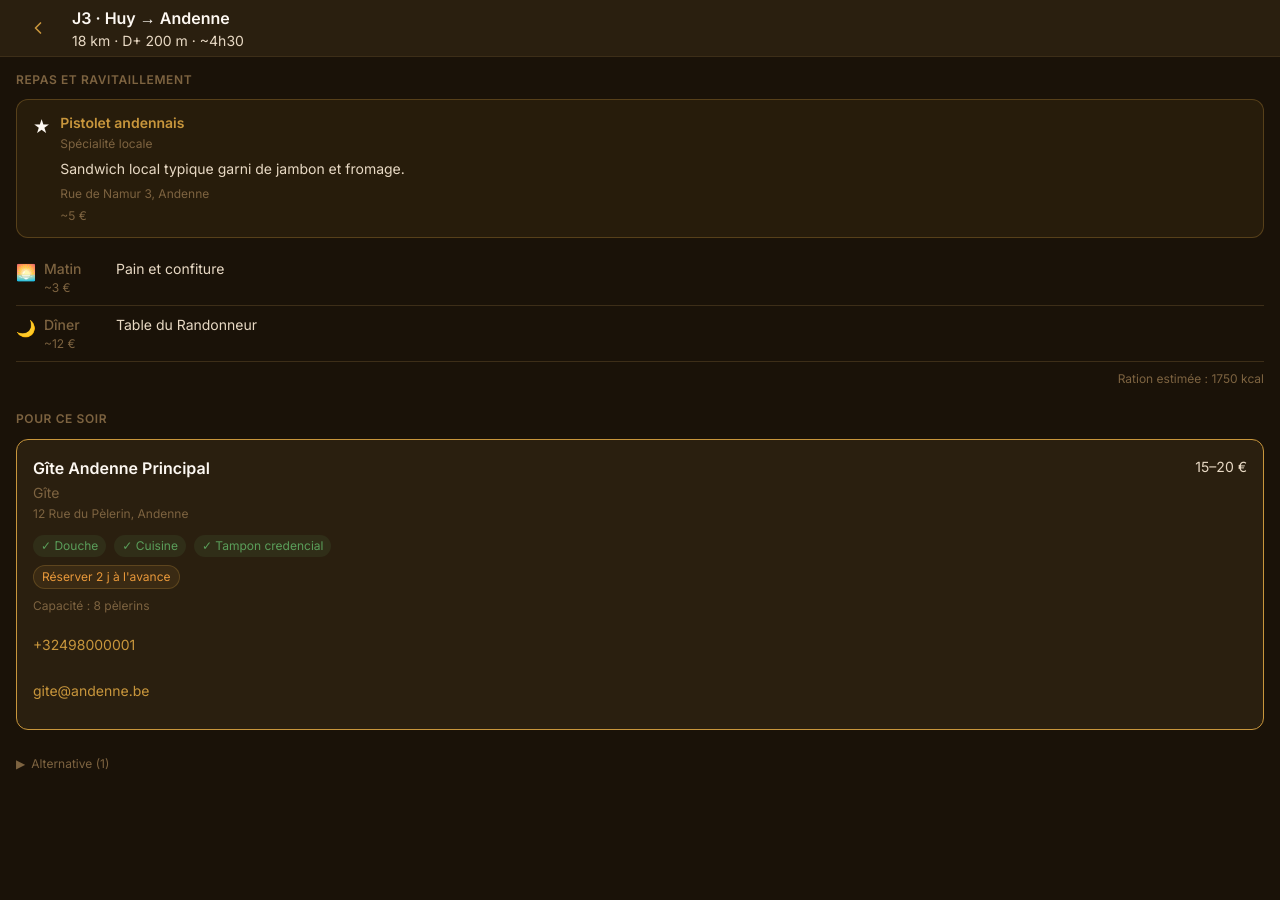
Test: ULTREIA-24 — Section Hébergement › les alternatives s'ouvrent au clic sur l'accordéon
Click the button "▶ Alternative (1)" at (63, 764), box x1=16 y1=742 x2=109 y2=786
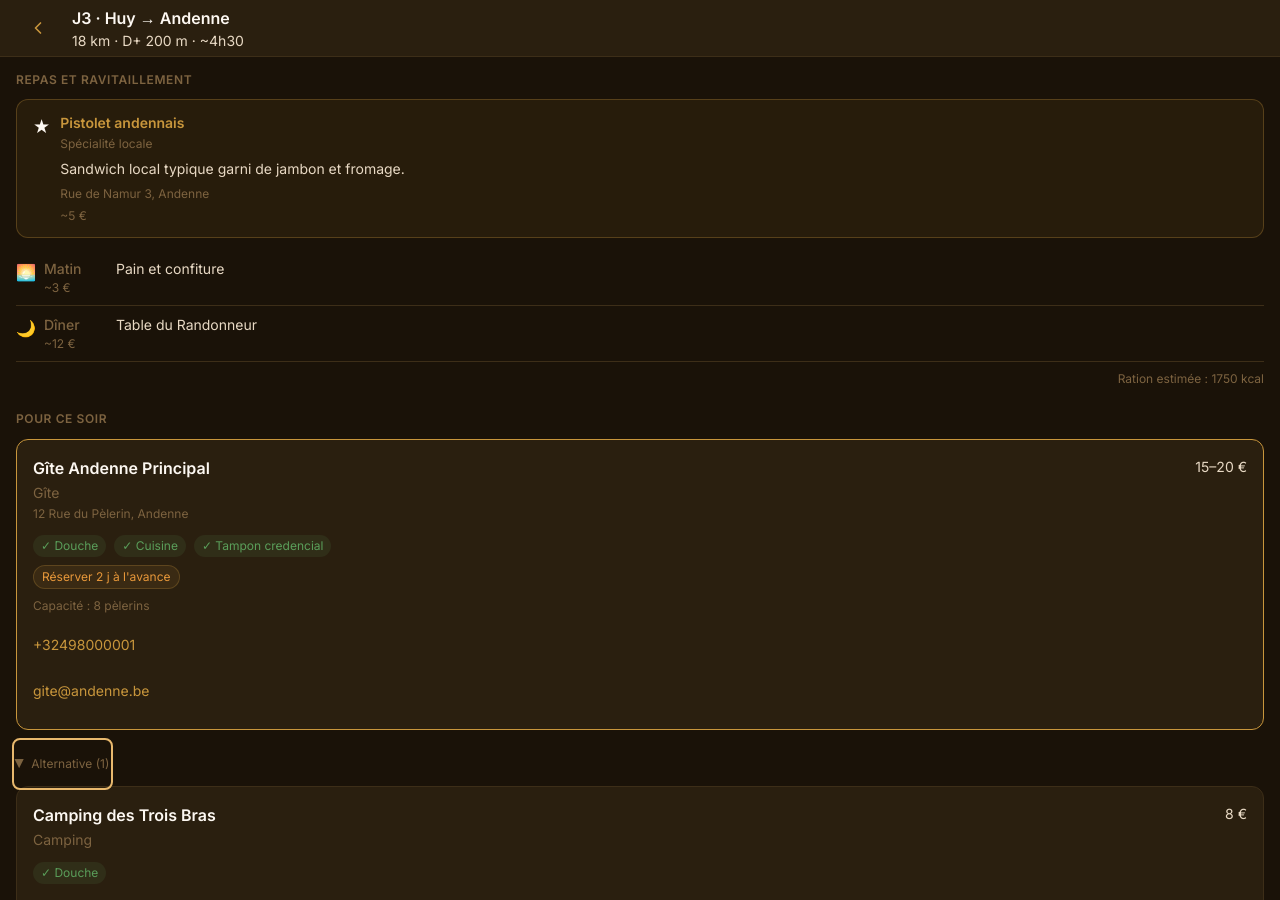
Result: the text "Camping des Trois Bras" is shown at x1=33 y1=805 x2=216 y2=825
